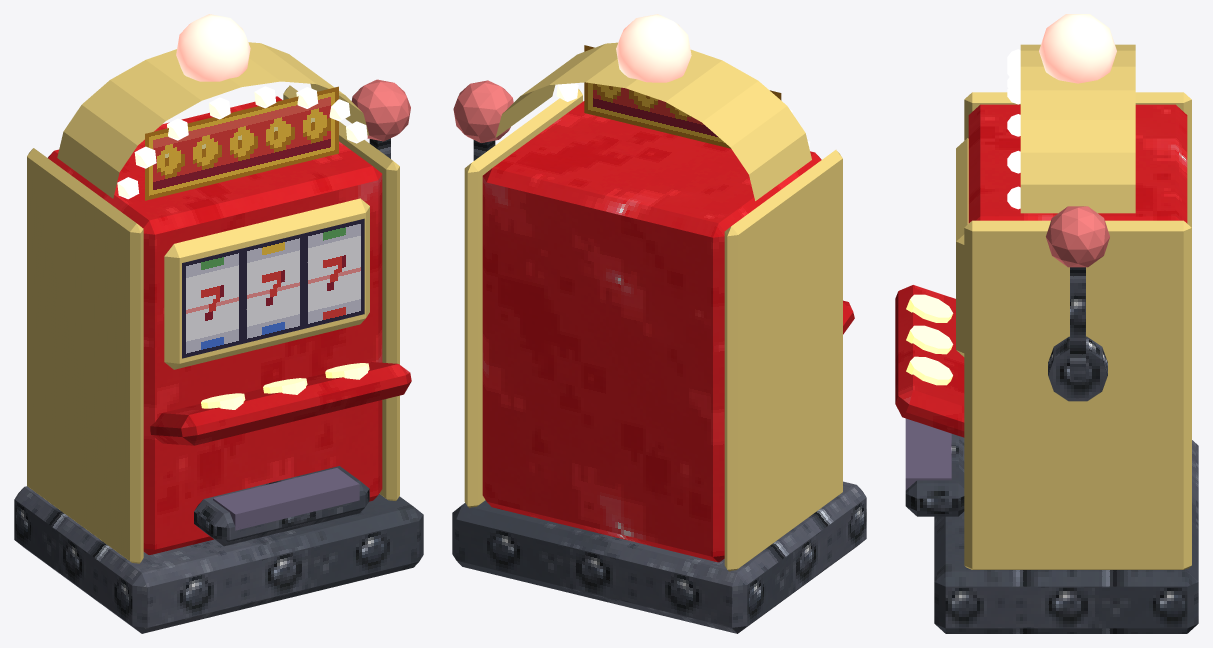
File: slots.glb
3 views of the same model, side by side, from view 1: azimuth 30°, elevation 25°; view 2: azimuth 150°, elevation 25°; view 3: azimuth 270°, elevation 25° (orthographic). The views are drawn at different scales.
Visible parts, largest first — view 1: Cabinet, TrimL, Plinth, Reels, Marquee, Sign, Console, Frame, TrimR, TrayHole, Lamp, Tray (+4 smaller); view 2: Cabinet, TrimL, Plinth, Marquee, TrimR, Lamp, Sign, LeverKnob; view 3: TrimR, Plinth, Marquee, Cabinet, Console, Lamp, LeverKnob, Tray, TrayHole, LeverBoss, Frame, TrimL (+4 smaller).
Boxes of the visible parts, <box> form: Cabinet: <box>48,96,382,554</box>; TrimL: <box>27,148,143,563</box>; Plinth: <box>14,486,423,633</box>; Reels: <box>182,218,364,358</box>; Marquee: <box>57,42,369,198</box>; Sign: <box>145,86,338,200</box>; Console: <box>150,362,411,445</box>; Frame: <box>164,198,369,369</box>; TrimR: <box>283,85,399,500</box>; TrayHole: <box>213,468,359,530</box>; Lamp: <box>176,14,250,81</box>; Tray: <box>194,466,369,546</box>; Cabinet: <box>482,101,821,562</box>; TrimL: <box>724,150,842,571</box>; Plinth: <box>452,481,866,633</box>; Marquee: <box>495,42,811,200</box>; TrimR: <box>464,89,582,508</box>; Lamp: <box>616,14,691,82</box>; Sign: <box>584,45,781,148</box>; LeverKnob: <box>453,80,513,142</box>; TrimR: <box>964,220,1191,569</box>; Plinth: <box>934,440,1198,633</box>; Marquee: <box>1020,44,1135,213</box>; Cabinet: <box>968,104,1187,223</box>; Console: <box>895,285,964,437</box>; Lamp: <box>1039,14,1116,83</box>; LeverKnob: <box>1046,206,1109,267</box>; Tray: <box>905,434,964,516</box>; TrayHole: <box>905,418,951,490</box>; LeverBoss: <box>1048,336,1107,401</box>; Frame: <box>956,138,968,356</box>; TrimL: <box>964,92,1191,227</box>.
Size of the model in its own units: 1.74 by 2.64 by 1.32.
11 materials, 5 textured.
